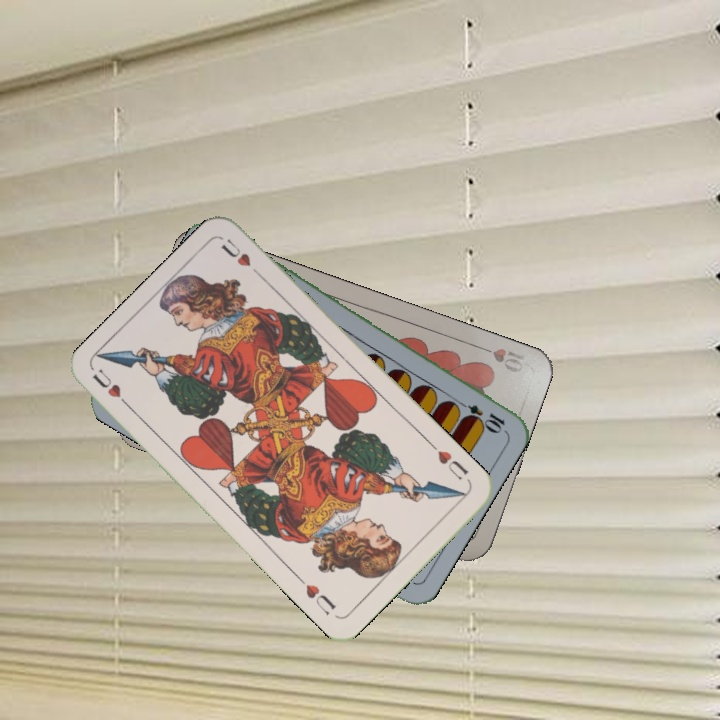E10: (452, 396, 508, 434)
H10: (472, 341, 527, 376)
HU: (88, 365, 135, 413), (426, 439, 471, 481)
